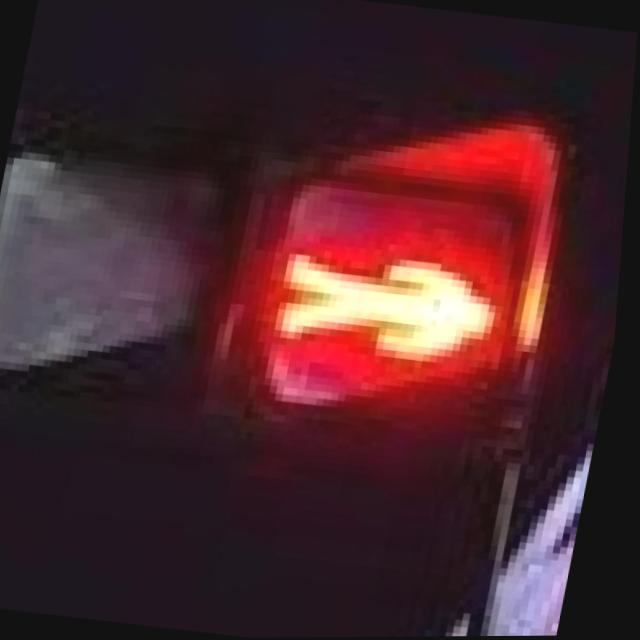red_light: (256, 202, 550, 394)
